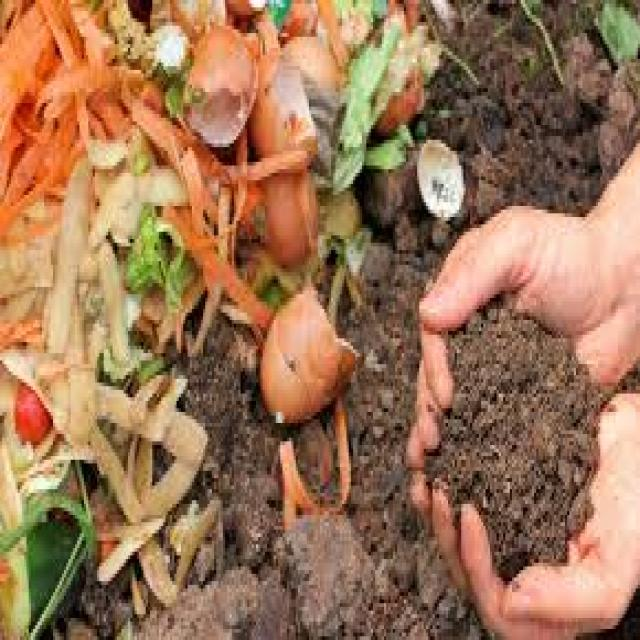Wet: (0, 2, 212, 639), (0, 0, 322, 235), (180, 0, 336, 260), (254, 291, 353, 433), (407, 133, 475, 224), (8, 366, 61, 454)
